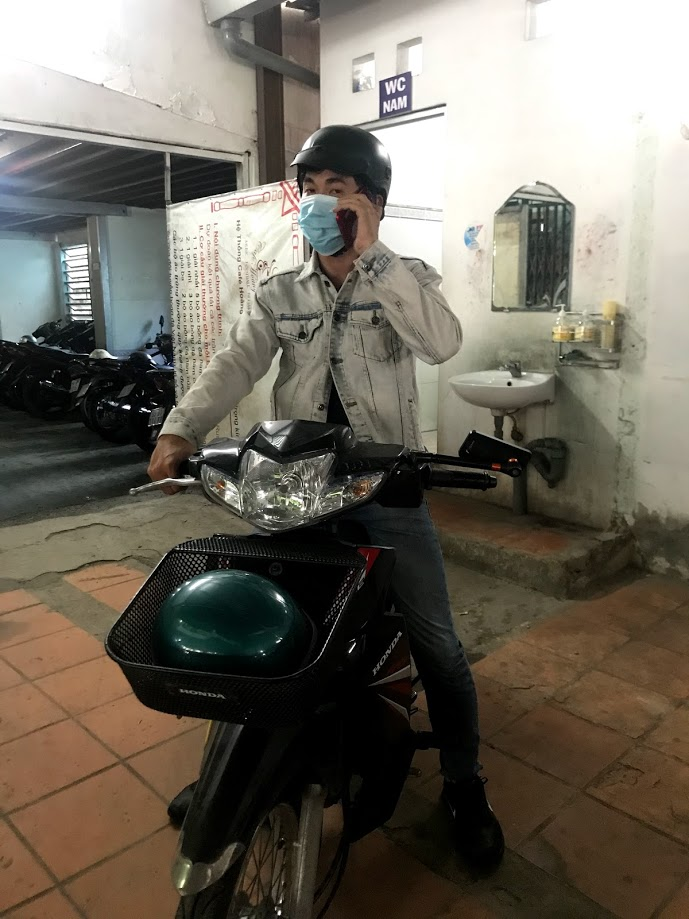dieu khien xe may: (167, 119, 428, 721)
su dung dien thoai: (288, 123, 394, 285)
